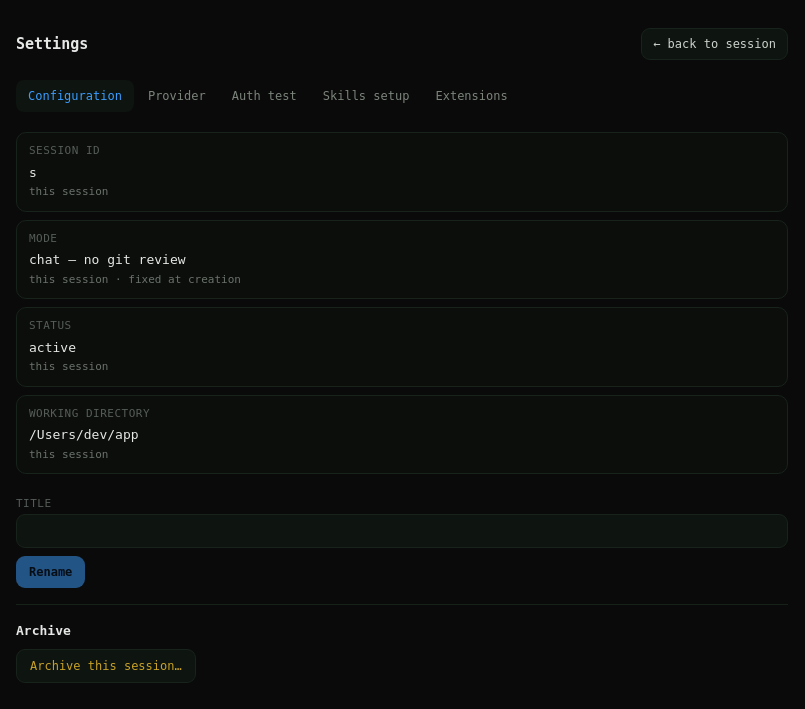
Test case: the Configuration tab › makes an owner confirm an archive, and says what it costs everyone
Click the button with test id "config-archive" at x=106, y=666, box [16,648,196,682]
(page scrolled)
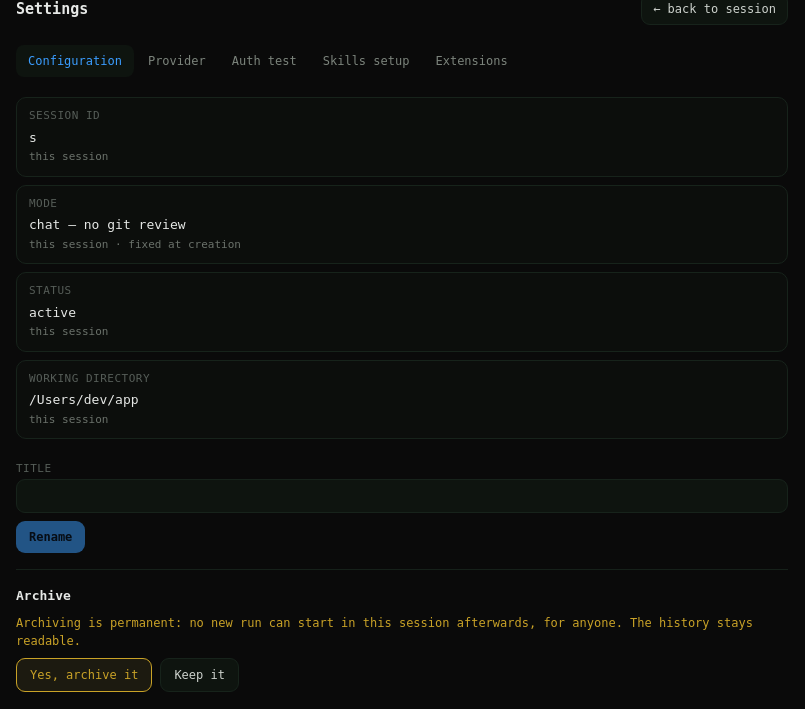
Result: the text with test id "config-archive-warning" shows "no new run" at [16,616,753,648]
Result: the text with test id "config-archive-warning" shows "for anyone" at [16,616,753,648]
Click the button with test id "config-archive-cancel" at x=200, y=674, box [160,658,239,692]
(page scrolled)
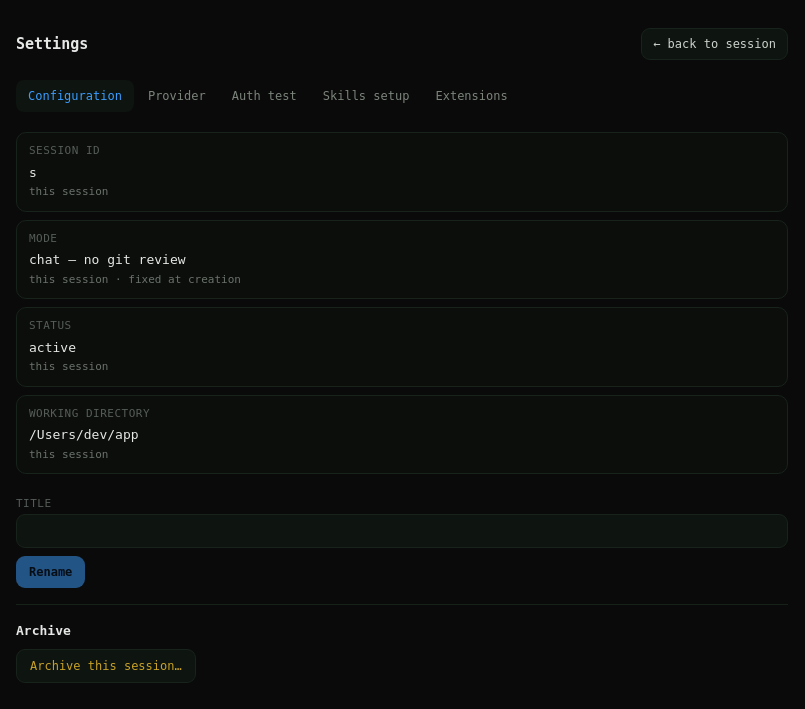
Result: the button with test id "config-archive-confirm" is gone
